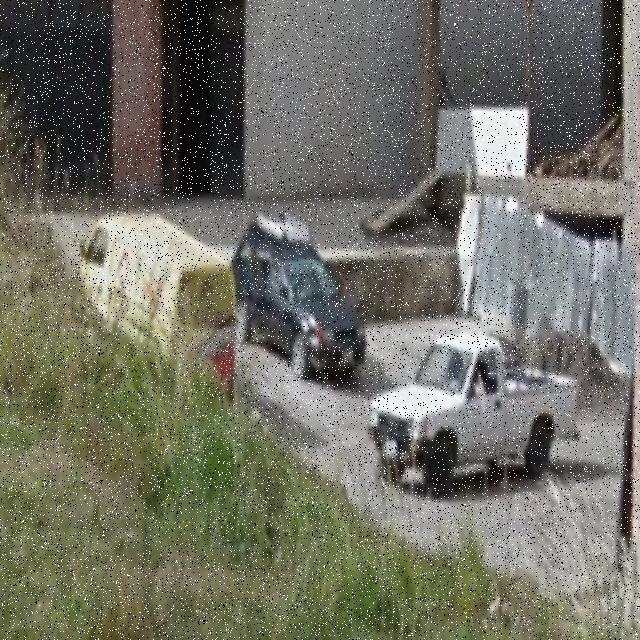cars: (367, 337, 583, 481), (86, 204, 238, 371), (236, 197, 367, 376)
